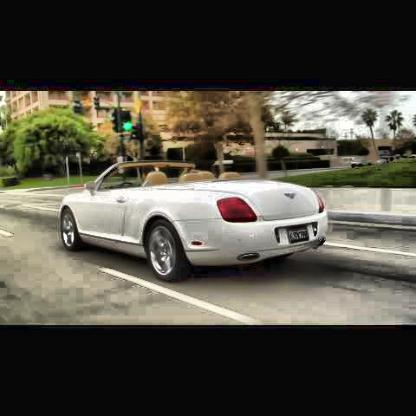Bentley Continental Supersports Conv- Convertible 2012: (62, 163, 329, 281)
